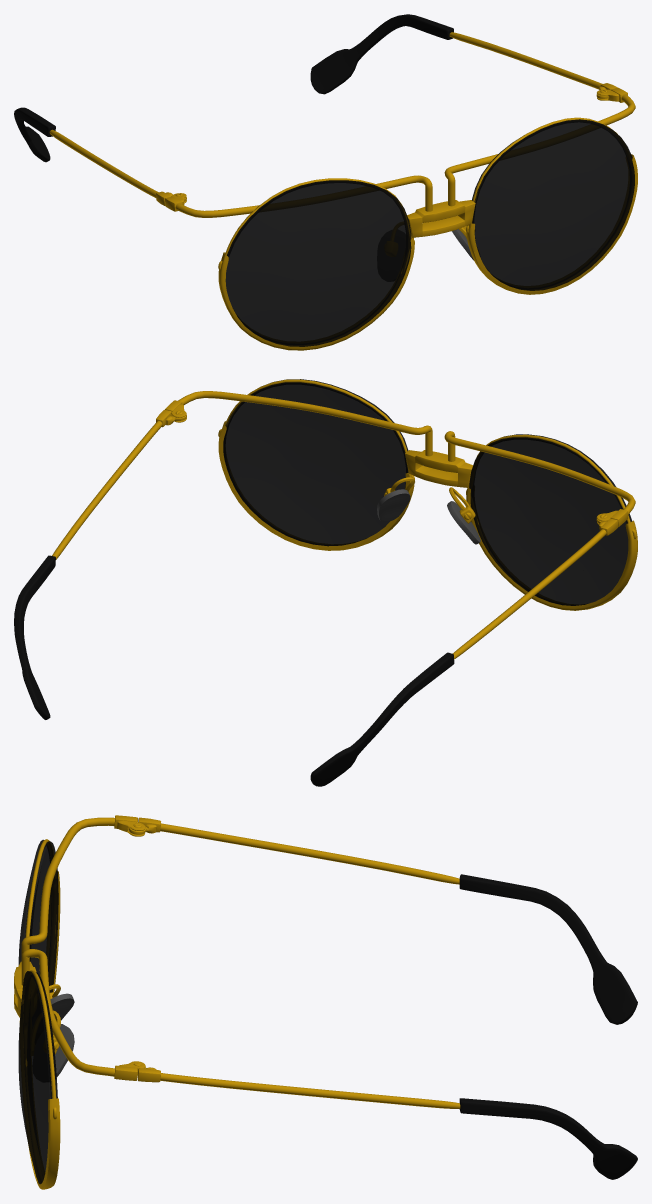
Rendered from sunglasses_193b5e63.glb.
3 renders of one model, top to bottom at view 1: azimuth 30°, elevation 25°; view 2: azimuth 150°, elevation 25°; view 3: azimuth 270°, elevation 25°, orthographic. The views are drawn at different scales.
Parts seen in each view (by area): view 1: Object_6, Object_10, Object_12; view 2: Object_6, Object_10, Object_12, Object_14; view 3: Object_10, Object_6, Object_12, Object_14.
Part boxes in pixels (<box>): Object_6: <box>225,119,634,346</box>; Object_10: <box>49,32,637,350</box>; Object_12: <box>14,14,453,162</box>; Object_6: <box>223,379,632,605</box>; Object_10: <box>52,379,637,659</box>; Object_12: <box>14,555,454,786</box>; Object_14: <box>377,489,480,544</box>; Object_10: <box>14,815,460,1189</box>; Object_6: <box>18,839,58,1184</box>; Object_12: <box>459,874,637,1179</box>; Object_14: <box>50,993,74,1077</box>.
Size of the model in its own units: 33.66 by 11.86 by 34.79.
